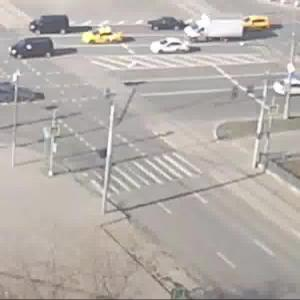car: (188, 16, 246, 50), (4, 38, 67, 63), (29, 12, 74, 38), (81, 29, 126, 50), (238, 10, 269, 34), (1, 79, 23, 109), (148, 17, 182, 33), (160, 41, 190, 56), (277, 79, 299, 93)
